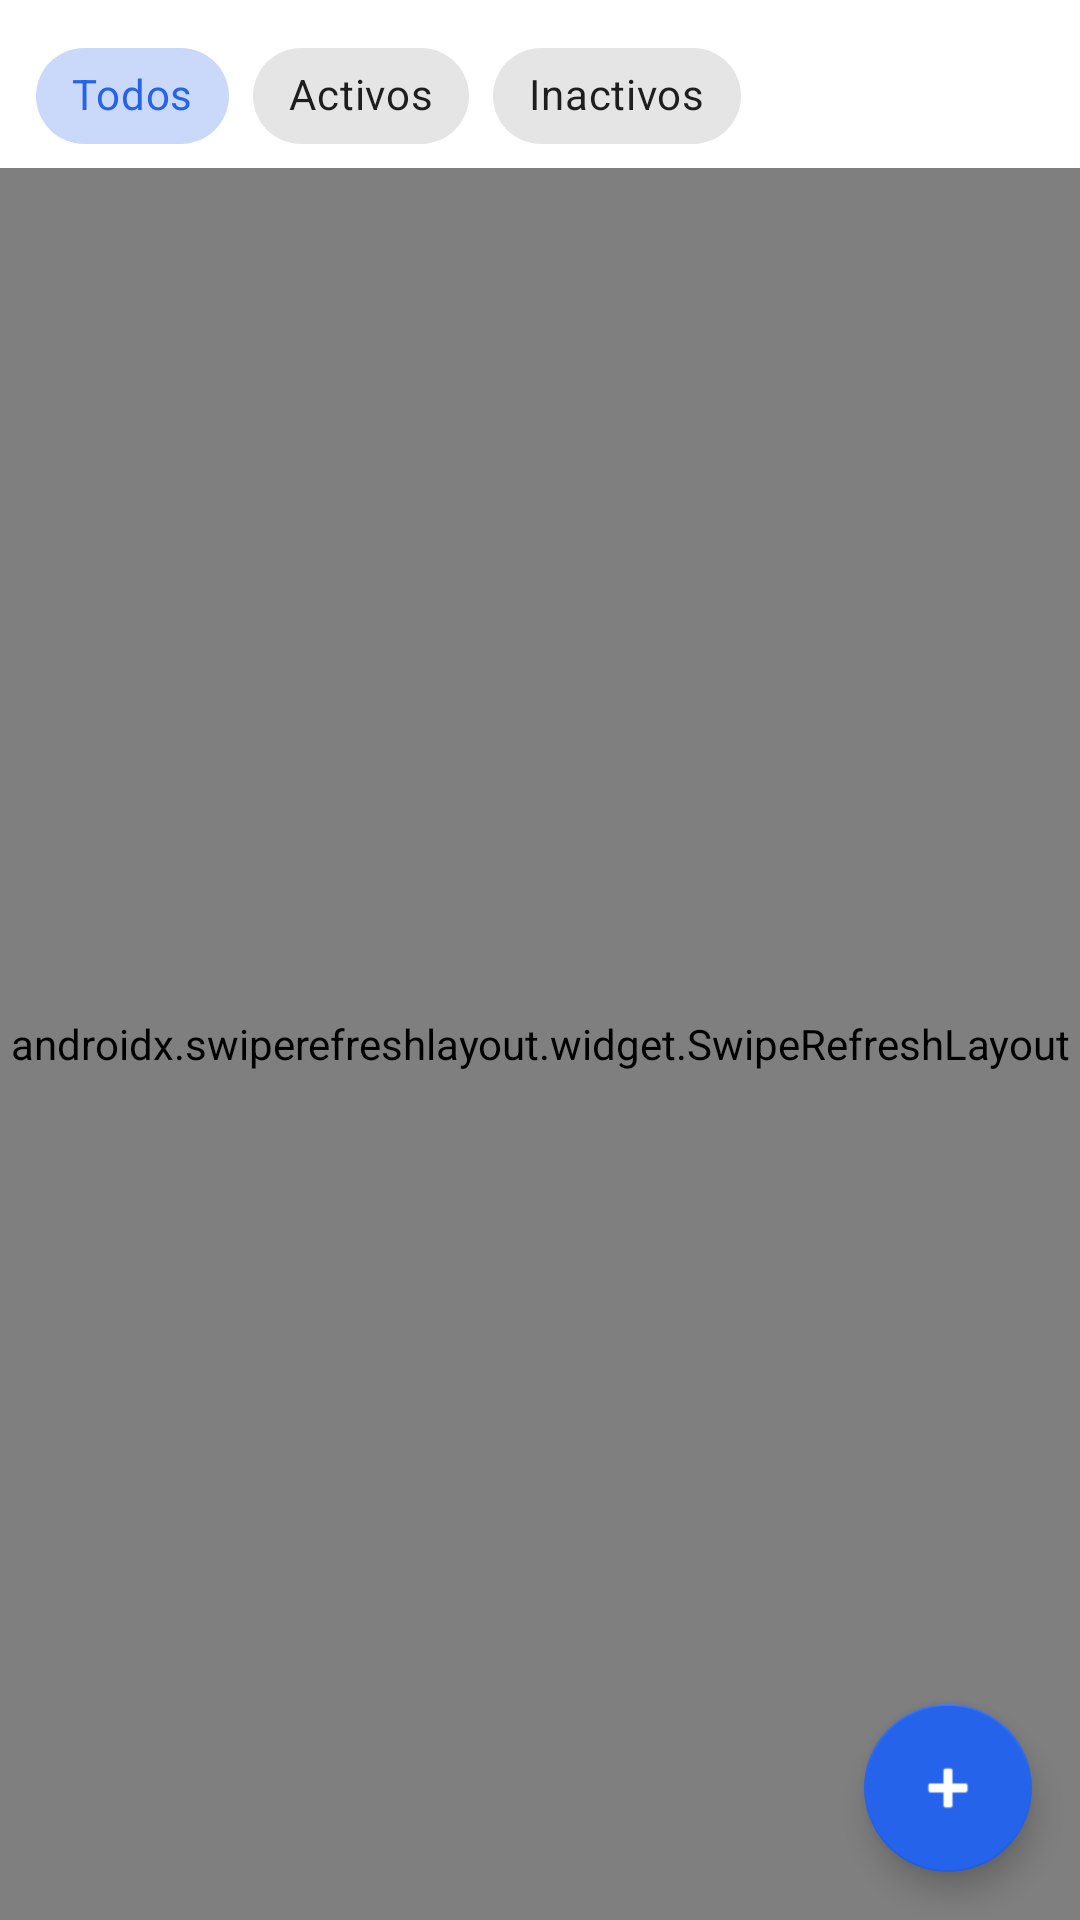

Icons on this 1080×1920 Android screen, each with the point to tap as (x=x, y=y):
Nuevo servicio: (x=948, y=1788)
